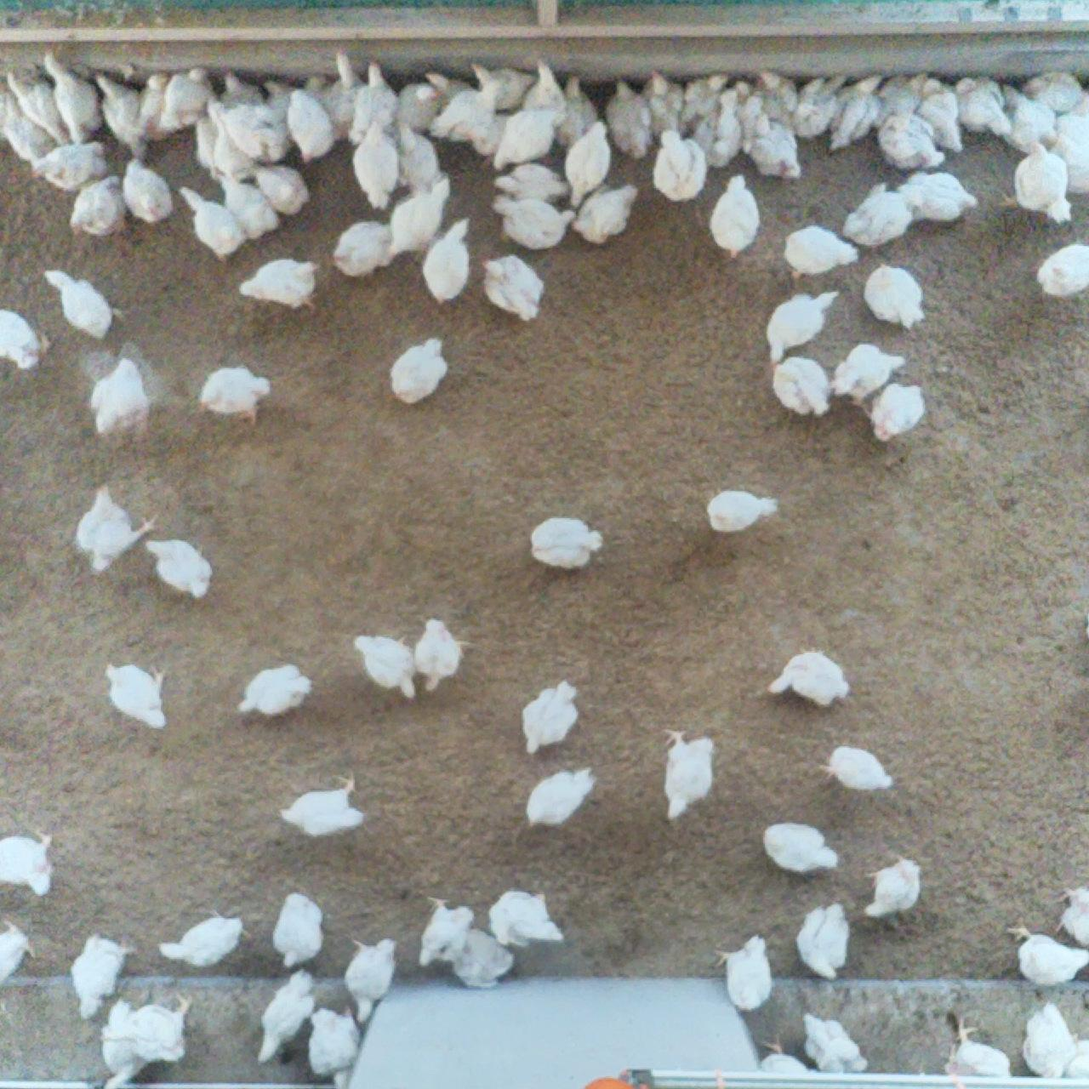chicken: (758, 290, 851, 358), (34, 51, 105, 140), (78, 486, 149, 573), (518, 766, 612, 830), (1003, 917, 1088, 985), (48, 264, 121, 343), (657, 727, 717, 823), (1012, 141, 1076, 231), (103, 1008, 210, 1061), (276, 771, 363, 836), (81, 360, 156, 435), (768, 649, 849, 716), (832, 339, 909, 408), (152, 911, 249, 965), (236, 254, 323, 314), (714, 931, 778, 1011), (386, 174, 459, 244), (177, 185, 246, 259), (94, 67, 151, 155), (69, 936, 127, 1022), (346, 632, 420, 699), (145, 532, 211, 607), (778, 224, 863, 282), (708, 176, 765, 262), (258, 966, 309, 1062), (6, 73, 73, 145), (104, 657, 170, 730), (412, 888, 471, 967), (602, 82, 661, 161), (795, 1009, 871, 1070), (573, 177, 641, 245), (842, 182, 914, 246), (915, 66, 966, 156), (196, 362, 271, 423), (798, 899, 852, 983), (494, 190, 572, 248), (762, 820, 838, 879), (901, 169, 984, 223), (941, 1019, 1013, 1081), (739, 98, 796, 176), (478, 254, 545, 319), (345, 937, 398, 1019), (489, 890, 566, 946), (391, 335, 448, 409), (285, 88, 345, 158), (824, 739, 895, 798), (863, 265, 931, 326), (950, 74, 1011, 142), (100, 998, 145, 1089), (497, 91, 550, 168), (305, 1012, 364, 1081), (532, 515, 602, 573), (1023, 1001, 1075, 1079), (439, 70, 498, 138), (237, 660, 311, 714), (276, 887, 325, 968), (331, 218, 396, 279), (523, 683, 579, 753), (1001, 81, 1056, 151), (413, 619, 465, 691), (425, 215, 467, 304), (252, 157, 313, 217), (865, 379, 924, 441), (452, 928, 510, 991), (218, 178, 281, 236), (352, 127, 396, 208), (655, 131, 706, 200), (867, 857, 920, 923), (2, 93, 53, 161), (69, 178, 128, 236), (707, 486, 778, 534), (835, 67, 877, 148), (799, 70, 843, 146), (572, 115, 607, 209), (881, 115, 944, 167), (1022, 66, 1089, 114), (775, 355, 826, 418), (198, 115, 248, 177), (1036, 241, 1089, 298), (326, 54, 362, 136), (167, 65, 210, 133), (392, 123, 439, 185), (1, 836, 53, 892), (640, 65, 682, 134), (564, 72, 602, 148), (697, 93, 734, 170), (362, 63, 398, 142), (533, 57, 567, 140), (499, 161, 565, 201), (753, 67, 795, 128), (266, 83, 300, 158), (485, 66, 539, 112), (2, 308, 41, 371), (430, 72, 477, 122), (876, 70, 927, 116), (401, 77, 444, 131), (687, 71, 726, 130), (1062, 114, 1089, 195), (144, 68, 173, 142), (757, 1032, 804, 1076), (1, 921, 31, 986), (1058, 887, 1089, 944), (224, 73, 260, 110), (1063, 1030, 1089, 1081), (723, 80, 758, 109)
